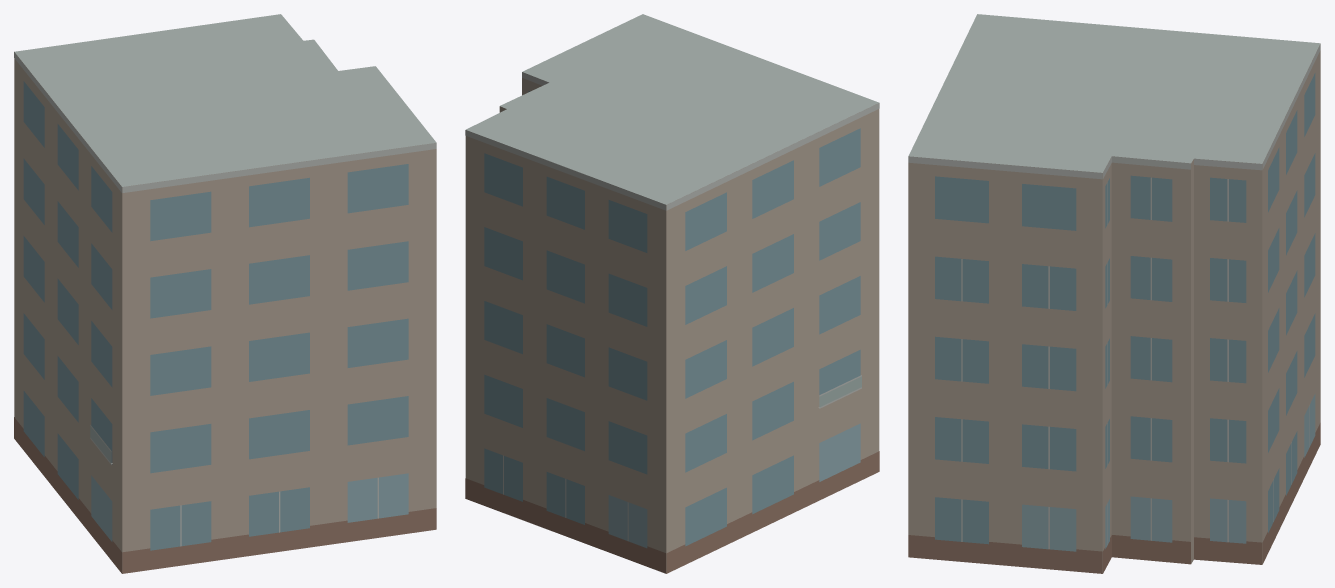
The model's file is survey-upis-32576131.glb.
3 views of the same model, side by side, from view 1: azimuth 30°, elevation 25°; view 2: azimuth 150°, elevation 25°; view 3: azimuth 270°, elevation 25° (orthographic). The views are drawn at different scales.
Visible parts, largest first — view 1: survey-upis-32576131.tmp; view 2: survey-upis-32576131.tmp; view 3: survey-upis-32576131.tmp.
Part boxes in pixels (<box>): survey-upis-32576131.tmp: <box>14,14,436,573</box>; survey-upis-32576131.tmp: <box>465,14,879,573</box>; survey-upis-32576131.tmp: <box>908,14,1320,573</box>.
Bounding box in the file's own units: 12.97 × 15.25 × 14.22.
